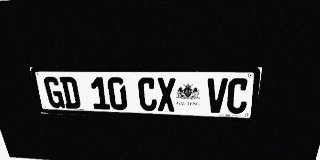0: (107, 77, 128, 110)
1: (89, 77, 110, 110)
C: (226, 78, 250, 114), (137, 77, 157, 111)
D: (59, 77, 81, 109)
G: (43, 77, 65, 108)
V: (206, 78, 228, 113)
X: (156, 77, 176, 112)
